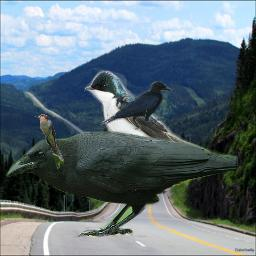Crow: (6, 131, 238, 240), (102, 81, 172, 130)
Cuckoo: (35, 114, 64, 169)
Swallow: (84, 69, 211, 166)
